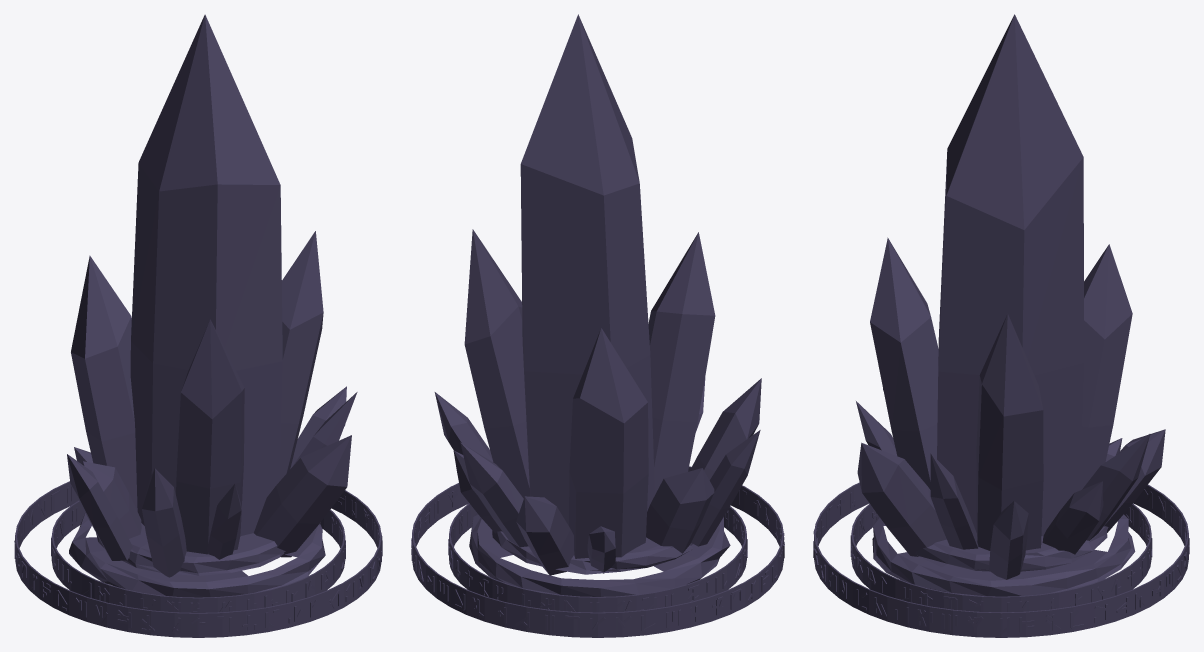
Rendered from CristaisLobby1.glb.
3 renders of one model, left to right at view 1: azimuth 30°, elevation 25°; view 2: azimuth 150°, elevation 25°; view 3: azimuth 270°, elevation 25°, orthographic. The views are drawn at different scales.
Parts seen in each view (by area): view 1: CoracaoEscuro_1, CoracaoMedio_1, CoracaoClaro_1, AnelFita_1, PedestalDoCoracao_1, AnelFita_2, AnelRunas_1, AnelRunas_2; view 2: CoracaoMedio_1, CoracaoClaro_1, AnelFita_1, PedestalDoCoracao_1, CoracaoEscuro_1, AnelFita_2, AnelRunas_1, AnelRunas_2; view 3: CoracaoClaro_1, CoracaoEscuro_1, AnelFita_1, PedestalDoCoracao_1, CoracaoMedio_1, AnelFita_2, AnelRunas_1, AnelRunas_2.
Part boxes in pixels (x1,y1,x2,y2): CoracaoEscuro_1: [67, 15, 357, 560]; CoracaoMedio_1: [67, 14, 351, 577]; CoracaoClaro_1: [67, 15, 355, 577]; AnelFita_1: [15, 481, 381, 637]; PedestalDoCoracao_1: [69, 513, 325, 597]; AnelFita_2: [51, 500, 345, 612]; AnelRunas_1: [14, 486, 382, 633]; AnelRunas_2: [51, 507, 345, 612]; CoracaoMedio_1: [451, 14, 759, 575]; CoracaoClaro_1: [435, 15, 761, 571]; AnelFita_1: [412, 466, 783, 637]; PedestalDoCoracao_1: [469, 513, 730, 596]; CoracaoEscuro_1: [434, 16, 759, 573]; AnelFita_2: [449, 503, 746, 612]; AnelRunas_1: [411, 489, 784, 633]; AnelRunas_2: [448, 510, 747, 612]; CoracaoClaro_1: [856, 14, 1165, 556]; CoracaoEscuro_1: [880, 157, 1165, 579]; AnelFita_1: [814, 482, 1188, 637]; PedestalDoCoracao_1: [872, 514, 1135, 596]; CoracaoMedio_1: [857, 16, 1128, 579]; AnelFita_2: [851, 503, 1151, 612]; AnelRunas_1: [813, 489, 1189, 634]; AnelRunas_2: [850, 507, 1152, 612].
Size of the model in its own units: 30.26 by 48.87 by 30.26.
